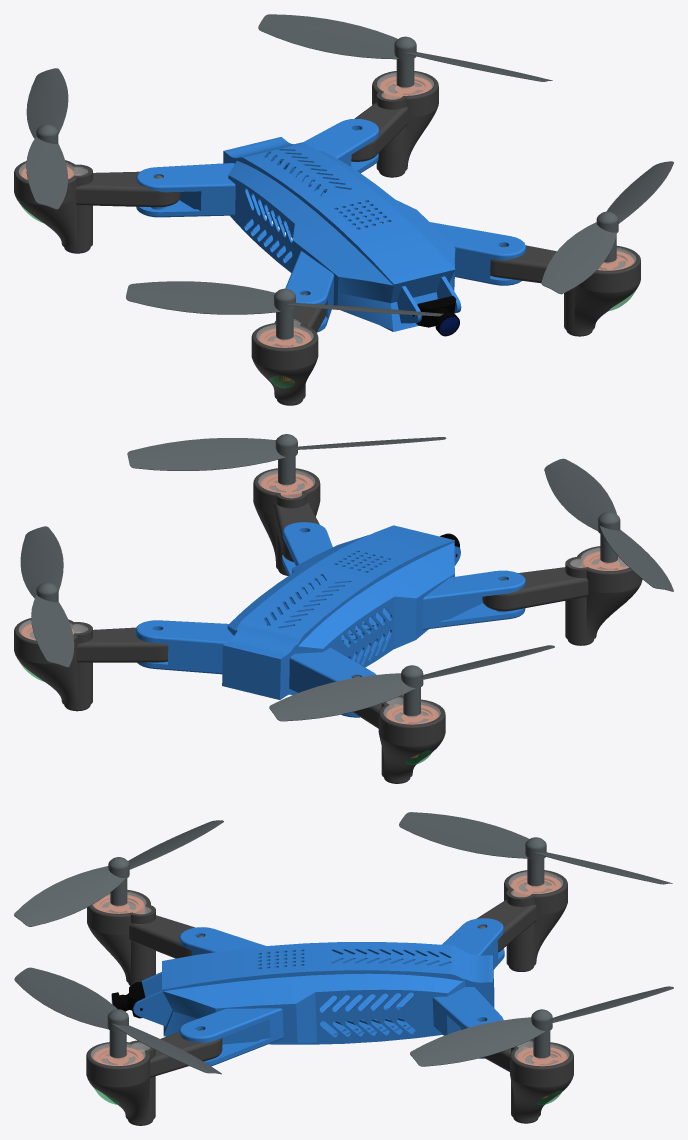
File: Drone.glb
3 renders of one model, top to bottom at view 1: azimuth 30°, elevation 25°; view 2: azimuth 150°, elevation 25°; view 3: azimuth 270°, elevation 25°, orthographic. The views are drawn at different scales.
Visible parts, largest first — view 1: Solid1.005, Solid1.006, Solid1.004, Solid1.025, Solid1.013, Solid1.012, Solid1.019, Solid1.018, Solid1.003, Solid1.024, Solid1.001, Solid1.015 (+1 smaller); view 2: Solid1.005, Solid1.006, Solid1.024, Solid1.012, Solid1.018, Solid1.003, Solid1.025, Solid1.013, Solid1.004, Solid1.019, Solid1.016, Solid1; view 3: Solid1.005, Solid1.006, Solid1.019, Solid1.024, Solid1.003, Solid1.013, Solid1.018, Solid1.004, Solid1.025, Solid1.012, Solid1, Solid1.001 (+3 smaller).
Boxes of the visible parts, left/top/right/bottom form: Solid1.005: left=136, top=118, right=525, bottom=318; Solid1.006: left=136, top=153, right=521, bottom=332; Solid1.004: left=14, top=160, right=180, bottom=253; Solid1.025: left=126, top=281, right=443, bottom=339; Solid1.013: left=258, top=14, right=552, bottom=87; Solid1.012: left=351, top=71, right=438, bottom=177; Solid1.019: left=490, top=245, right=640, bottom=336; Solid1.018: left=541, top=161, right=673, bottom=294; Solid1.003: left=26, top=68, right=68, bottom=209; Solid1.024: left=251, top=303, right=325, bottom=405; Solid1.001: left=413, top=296, right=459, bottom=336; Solid1.015: left=378, top=76, right=431, bottom=99; Solid1.005: left=135, top=522, right=525, bottom=686; Solid1.006: left=137, top=552, right=525, bottom=717; Solid1.024: left=482, top=546, right=642, bottom=645; Solid1.012: left=14, top=618, right=168, bottom=711; Solid1.018: left=127, top=434, right=446, bottom=485; Solid1.003: left=269, top=645, right=554, bottom=721; Solid1.025: left=544, top=458, right=673, bottom=591; Solid1.013: left=20, top=526, right=74, bottom=667; Solid1.004: left=353, top=695, right=445, bottom=783; Solid1.019: left=253, top=468, right=320, bottom=575; Solid1.016: left=260, top=473, right=313, bottom=497; Solid1: left=385, top=704, right=438, bottom=758; Solid1.005: left=133, top=918, right=503, bottom=1042; Solid1.006: left=133, top=948, right=504, bottom=1066; Solid1.019: left=86, top=1032, right=222, bottom=1125; Solid1.024: left=87, top=890, right=194, bottom=985; Solid1.003: left=399, top=812, right=672, bottom=886; Solid1.013: left=410, top=986, right=673, bottom=1066; Solid1.018: left=14, top=967, right=221, bottom=1074; Solid1.004: left=477, top=870, right=567, bottom=971; Solid1.025: left=14, top=820, right=223, bottom=926; Solid1.012: left=461, top=1028, right=573, bottom=1123; Solid1: left=510, top=875, right=561, bottom=896; Solid1.001: left=111, top=981, right=145, bottom=1018.
Size of the model in its own units: 0.2832 by 0.0672 by 0.3089.
